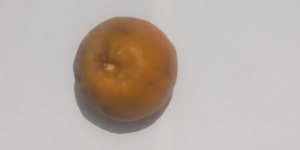BAD: (70, 16, 183, 125)
